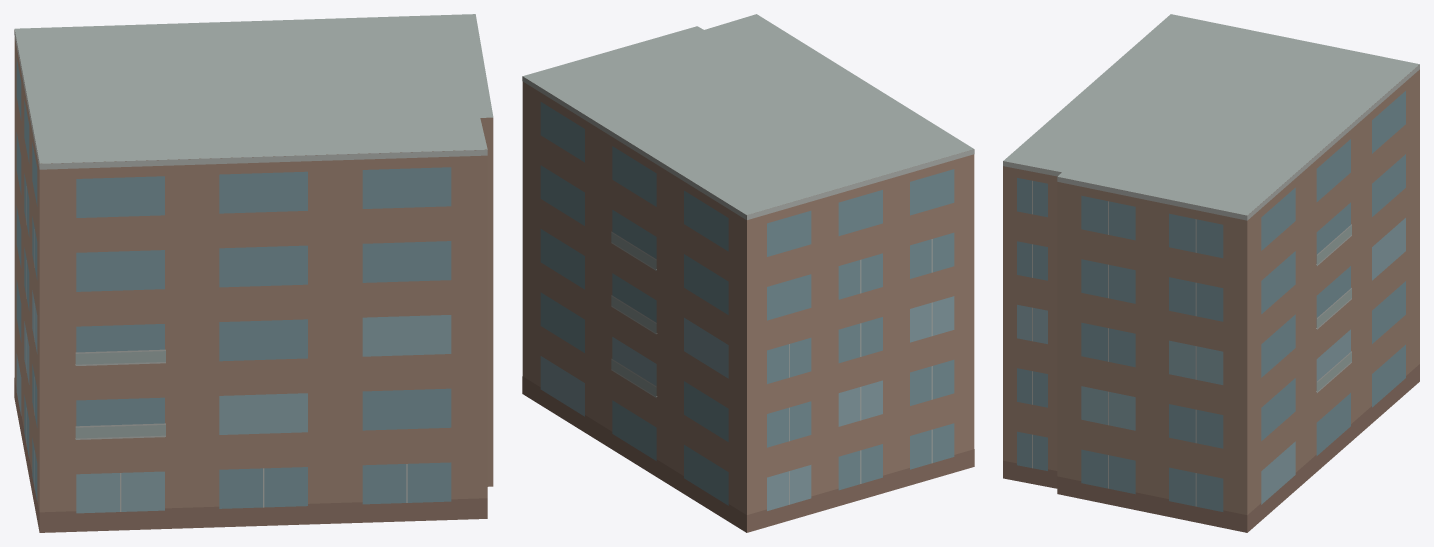
The model's file is survey-upis-32928139.glb.
3 views of the same model, side by side, from view 1: azimuth 30°, elevation 25°; view 2: azimuth 150°, elevation 25°; view 3: azimuth 270°, elevation 25° (orthographic). The views are drawn at different scales.
Visible parts, largest first — view 1: survey-upis-32928139.tmp; view 2: survey-upis-32928139.tmp; view 3: survey-upis-32928139.tmp.
Boxes of the visible parts, <box> form: survey-upis-32928139.tmp: <box>14,14,493,532</box>; survey-upis-32928139.tmp: <box>522,14,974,532</box>; survey-upis-32928139.tmp: <box>1003,14,1419,532</box>.
Size of the model in its own units: 20.79 by 15.25 by 18.16.
